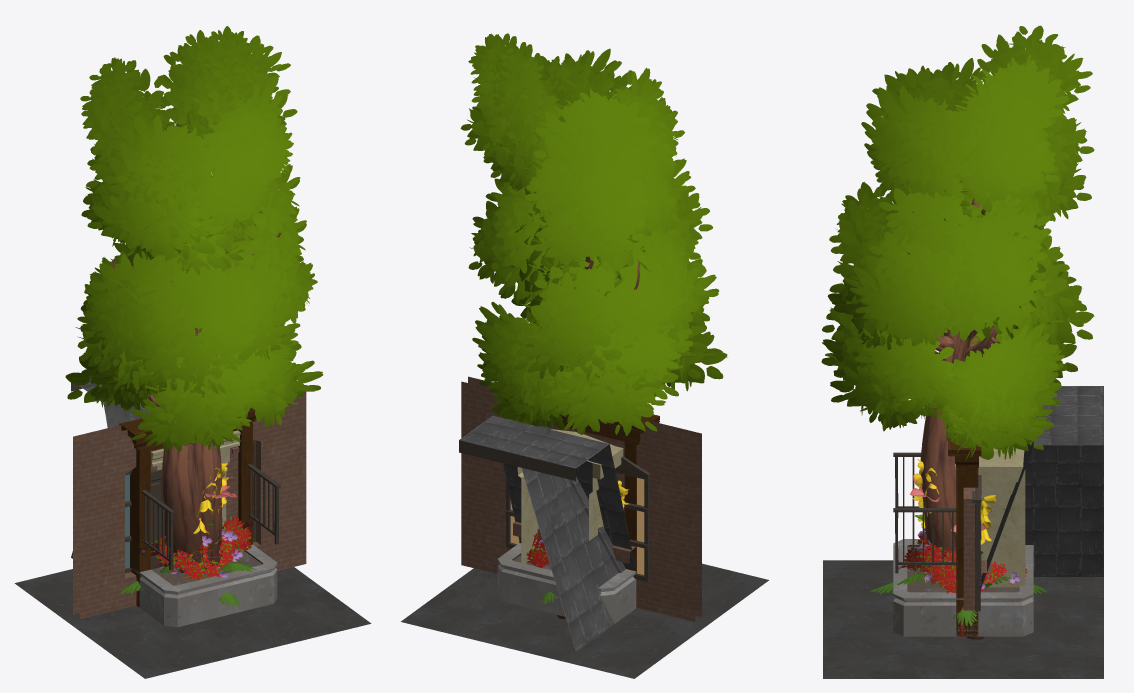
Rendered from street-art.gltf.
3 renders of one model, left to right at view 1: azimuth 30°, elevation 25°; view 2: azimuth 150°, elevation 25°; view 3: azimuth 270°, elevation 25°, orthographic. The views are drawn at different scales.
Parts seen in each view (by area): view 1: CommonTree_3, CommonTree_1, CommonTree_4, Brick_Window_CurvedDouble, Roof_4x4, Prop_Planter_Single, DoorFrame_Wooden, Stairs_Rails_Metal_Straight_1, Bush_Common, Roof_Slate_Window_1, Bush_Common_Flowers, Door_1 (+4 smaller); view 2: CommonTree_1, CommonTree_3, Brick_Window_CurvedDouble, CommonTree_4, Roof_4x4, Roof_Slate_Window_1, Roof_Slate_Corner, Prop_Planter_Single, Roof_Slate_Center, DoorFrame_Wooden; view 3: CommonTree_1, CommonTree_3, CommonTree_4, Roof_4x4, Roof_Slate_Corner, Roof_Slate_Window_1, Prop_Planter_Single, DoorFrame_Wooden, Brick_Window_CurvedDouble, Stairs_Rails_Metal_Straight_1, Bush_Common, Bush_Common_Flowers (+2 smaller).
Boxes of the visible parts, x1,y1,x2,y2 form: CommonTree_3: (80,30,317,566); CommonTree_1: (65,175,323,451); CommonTree_4: (87,26,300,572); Brick_Window_CurvedDouble: (73,391,306,618); Roof_4x4: (14,567,371,678); Prop_Planter_Single: (130,544,277,627); DoorFrame_Wooden: (119,408,255,607); Stairs_Rails_Metal_Straight_1: (141,464,280,570); Bush_Common: (152,516,252,580); Roof_Slate_Window_1: (71,375,240,525); Bush_Common_Flowers: (154,516,251,579); Door_1: (141,469,164,569); CommonTree_1: (468,181,727,436); CommonTree_3: (472,42,712,618); Brick_Window_CurvedDouble: (461,376,701,621); CommonTree_4: (460,33,684,619); Roof_4x4: (401,563,768,678); Roof_Slate_Window_1: (459,415,632,566); Roof_Slate_Corner: (461,416,625,651); Prop_Planter_Single: (497,543,636,623); Roof_Slate_Center: (459,418,636,569); DoorFrame_Wooden: (519,414,659,607); CommonTree_1: (821,180,1094,477); CommonTree_3: (826,41,1091,638); CommonTree_4: (861,25,1094,639); Roof_4x4: (823,560,1103,678); Roof_Slate_Corner: (980,415,1103,588); Roof_Slate_Window_1: (955,386,1103,587); Prop_Planter_Single: (893,539,1033,636); DoorFrame_Wooden: (948,438,981,636); Brick_Window_CurvedDouble: (963,475,981,611); Stairs_Rails_Metal_Straight_1: (893,452,956,573); Bush_Common: (902,528,1027,593); Bush_Common_Flowers: (898,528,1027,593).
Bounding box in the file's own units: 4.31 × 9.44 × 4.58.
Materials: 18 (16 with a texture image).
